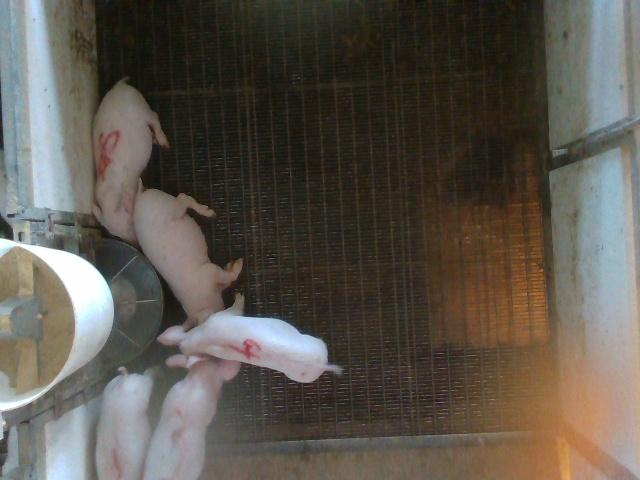pig-1: (96, 366, 152, 478)
pig-3: (144, 358, 240, 478)
pig-4: (158, 311, 340, 382)
pig-5: (92, 79, 169, 243)
